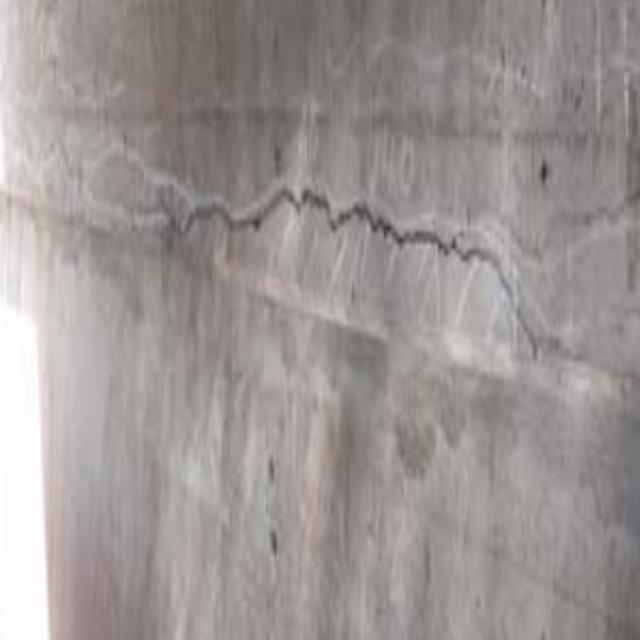crack: (143, 171, 536, 303)
